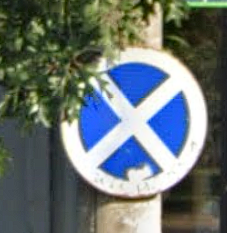oprirea_interzisa: (50, 41, 210, 200)
